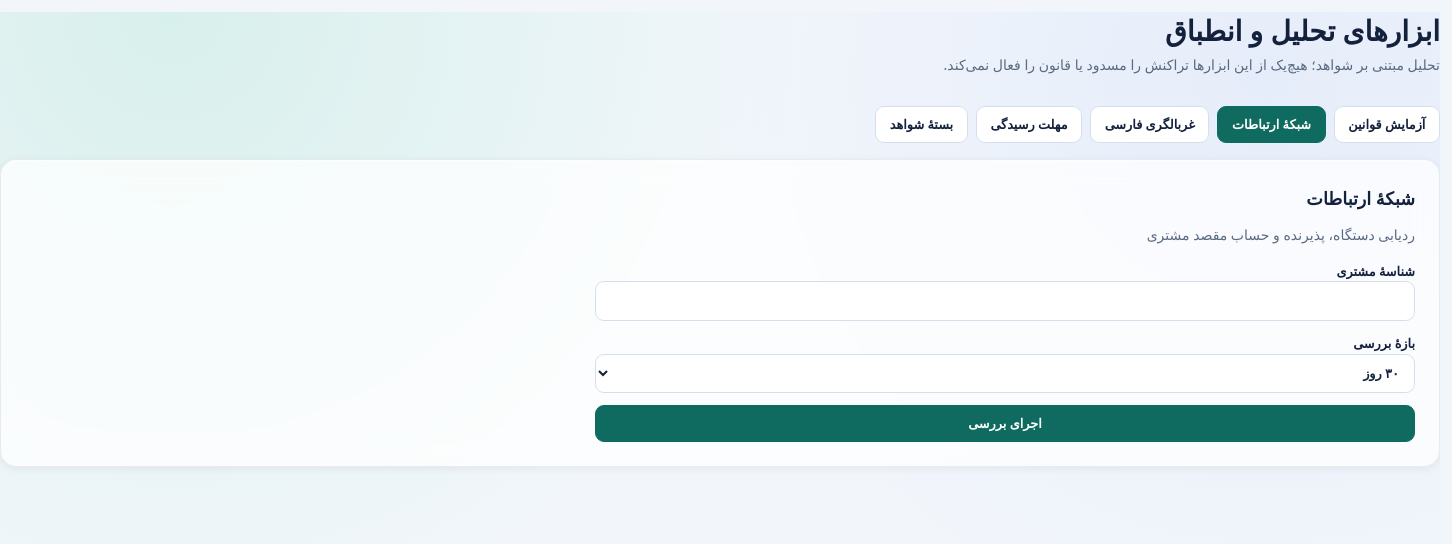
Scenario: graph errors are visible and successful empty result can be retried
This screenshot has width=1452, height=544.
Later steps or results of the test are not shown.
Type "missing" into the field labelled "شناسهٔ مشتری" at (1005, 301), box [595, 281, 1415, 321]
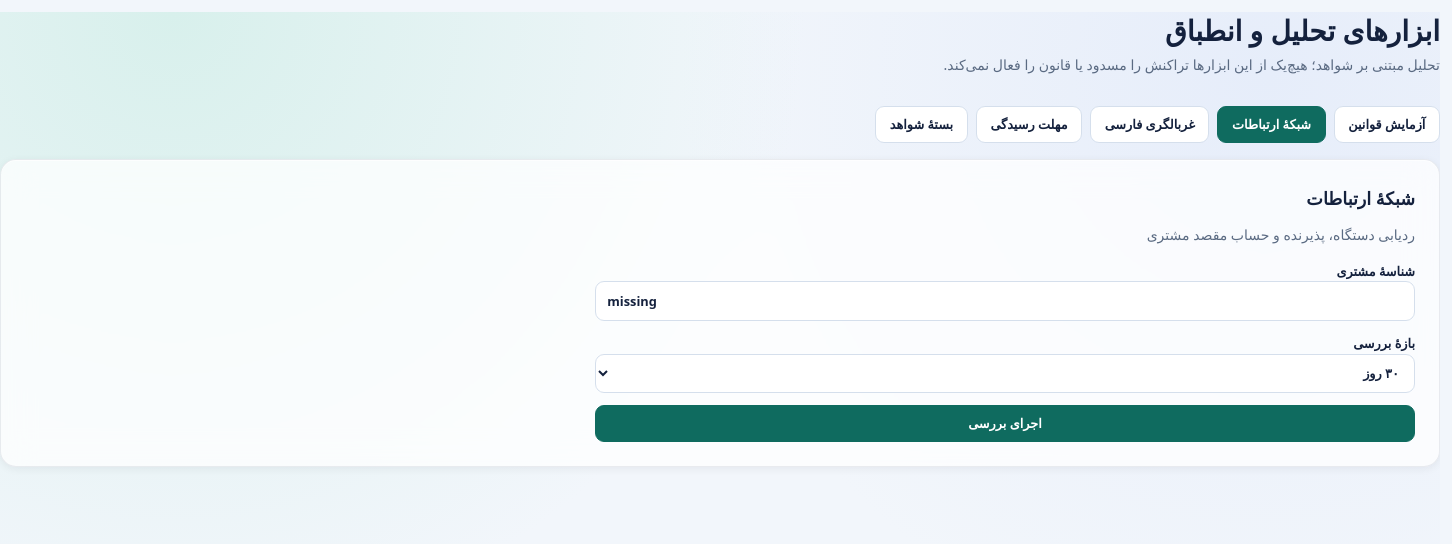
Submit the form, box [595, 261, 1415, 442]
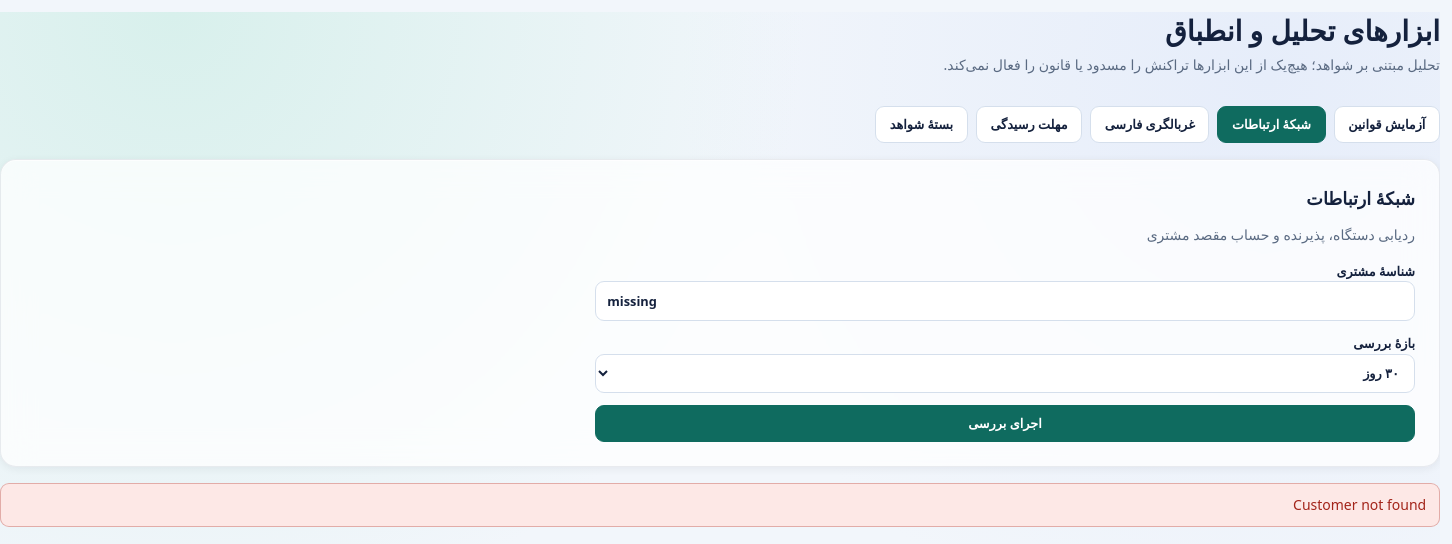
Expected: the message "Customer not found" is shown, [0, 483, 1440, 527]
